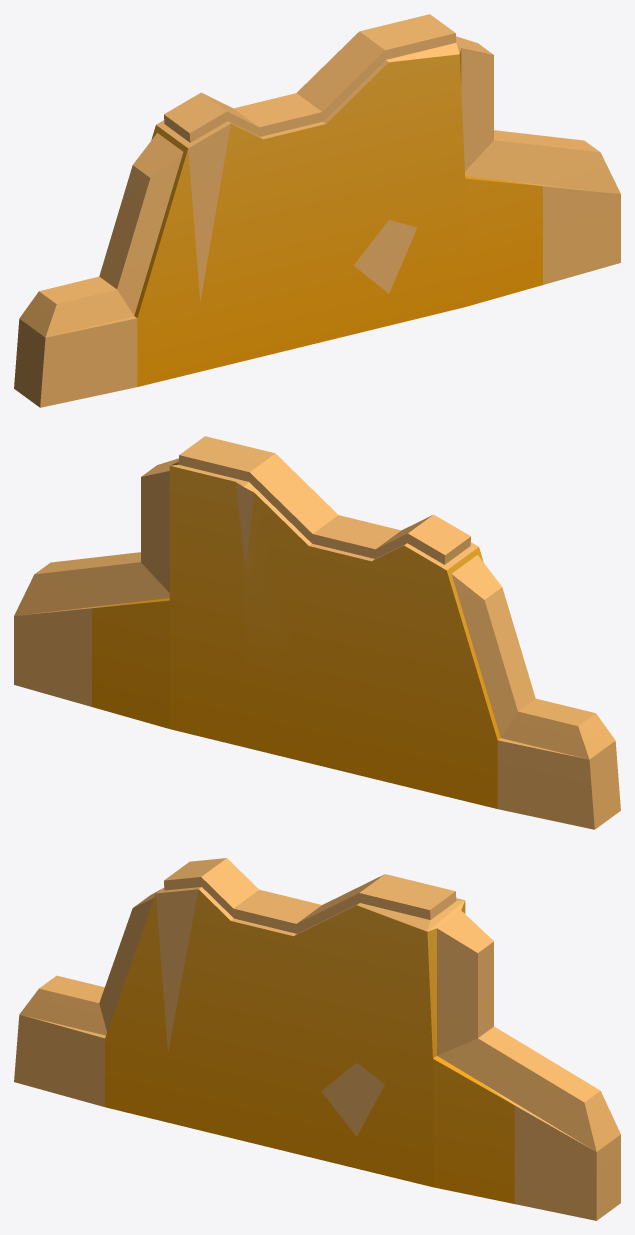
File: Prop_Broken_Wall_A_01.fbx
3 renders of one model, top to bottom at view 1: azimuth 30°, elevation 25°; view 2: azimuth 150°, elevation 25°; view 3: azimuth 330°, elevation 25°, orthographic.
Visible parts, largest first — view 1: Prop_Broken_Wall_A_01; view 2: Prop_Broken_Wall_A_01; view 3: Prop_Broken_Wall_A_01.
Boxes of the visible parts, x1,y1,x2,y2 form: Prop_Broken_Wall_A_01: (14,14,620,407); Prop_Broken_Wall_A_01: (14,436,620,829); Prop_Broken_Wall_A_01: (14,858,620,1220).
Bounding box in the file's own units: 462 × 207 × 45.26.
